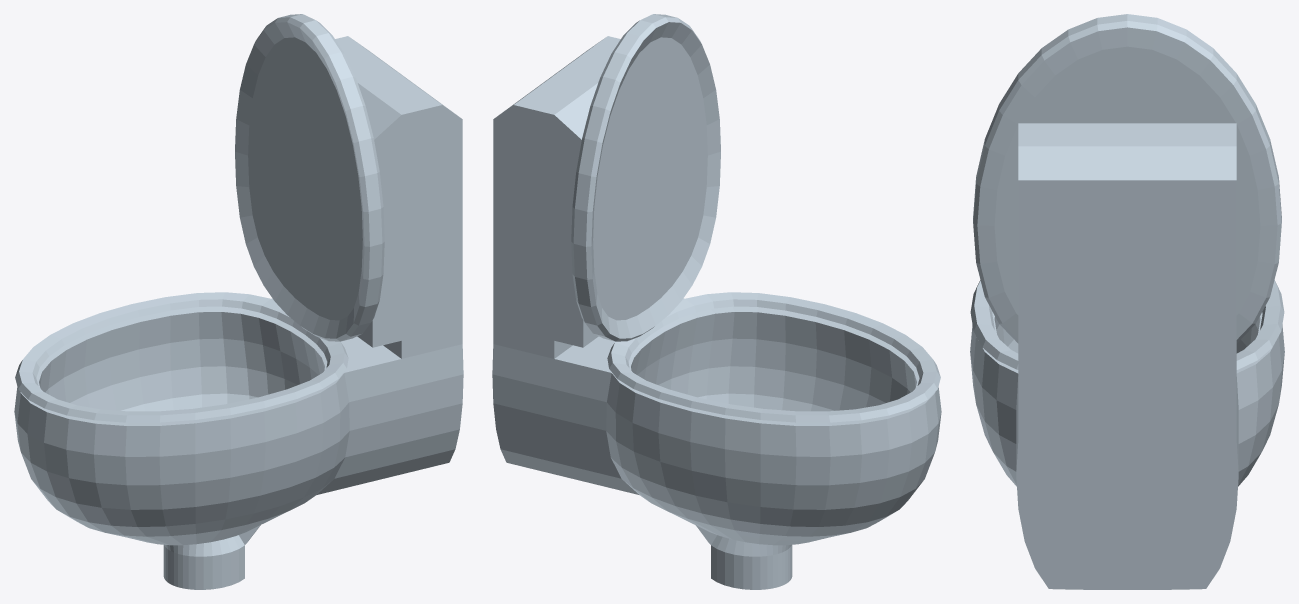
Rendered from Toilet.fbx.
3 renders of one model, left to right at view 1: azimuth 30°, elevation 25°; view 2: azimuth 150°, elevation 25°; view 3: azimuth 270°, elevation 25°, orthographic. The views are drawn at different scales.
Visible parts, largest first — view 1: Sphere; view 2: Sphere; view 3: Sphere.
Part boxes in pixels (x1,y1,x2,y2): Sphere: [14, 14, 463, 589]; Sphere: [492, 14, 941, 589]; Sphere: [970, 14, 1284, 589].
Size of the model in its own units: 268 by 347 by 162.
